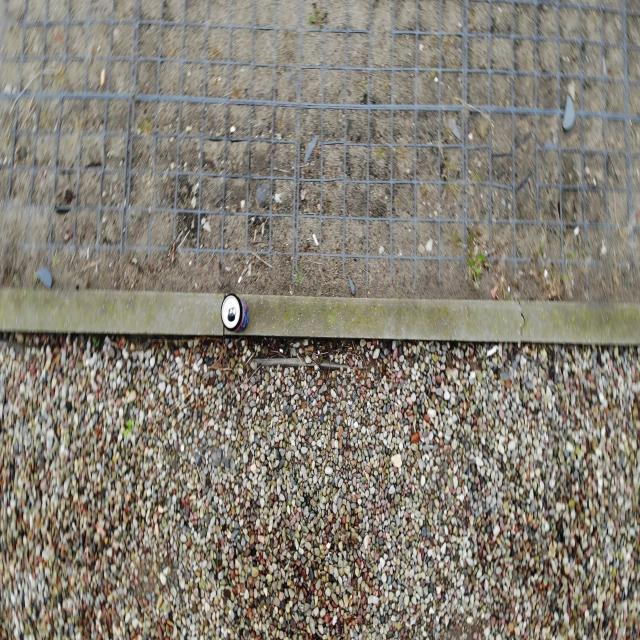rubbish: (220, 294, 248, 331)
